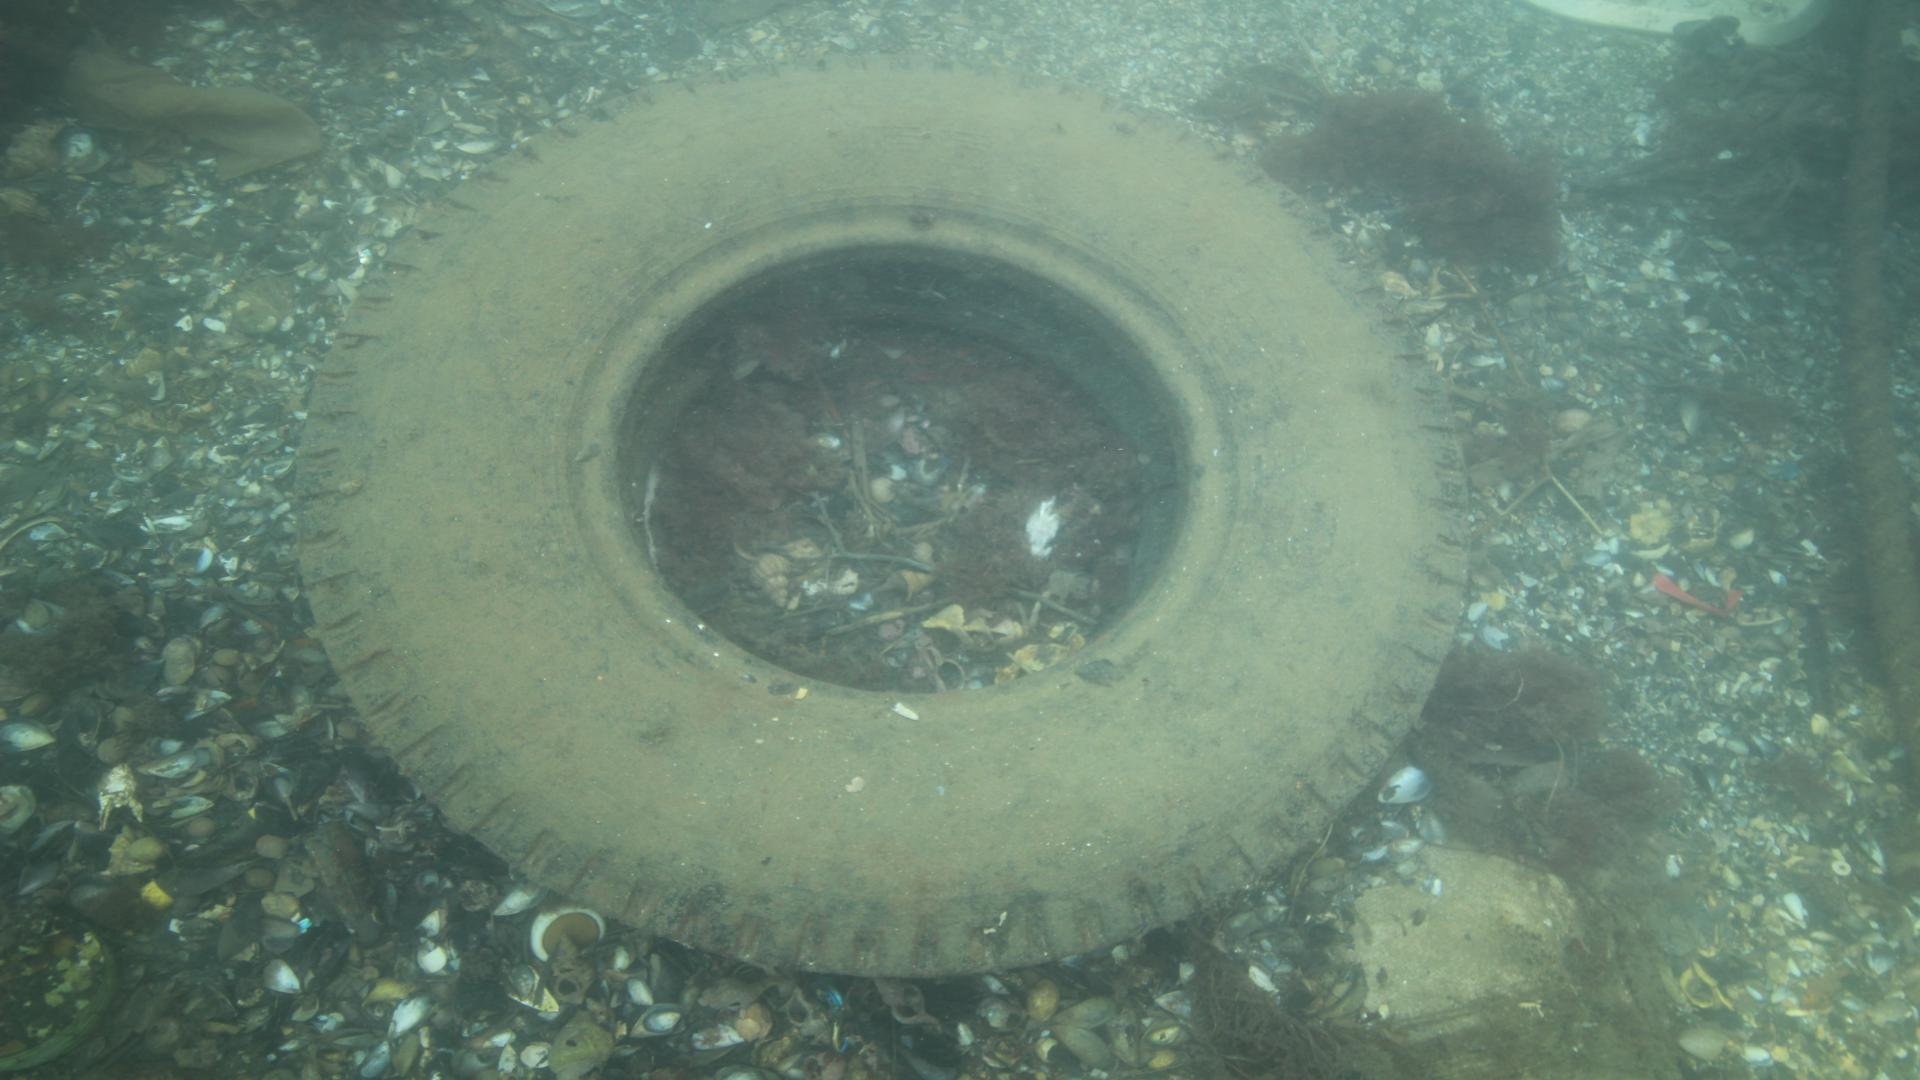rope: (1844, 0, 1920, 800)
tire: (289, 53, 1470, 977)
